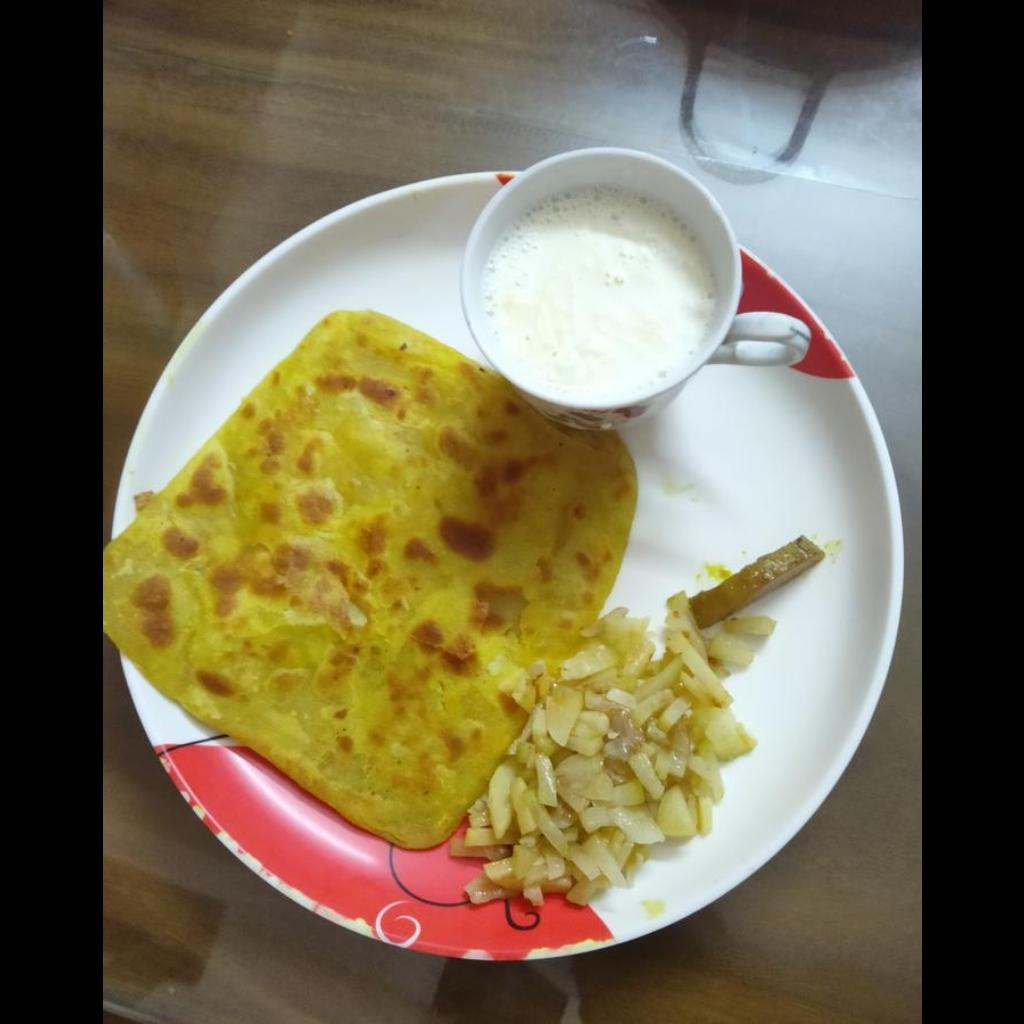milk: (484, 194, 716, 402)
ruti: (104, 309, 634, 852)
vaji: (451, 535, 827, 910)
